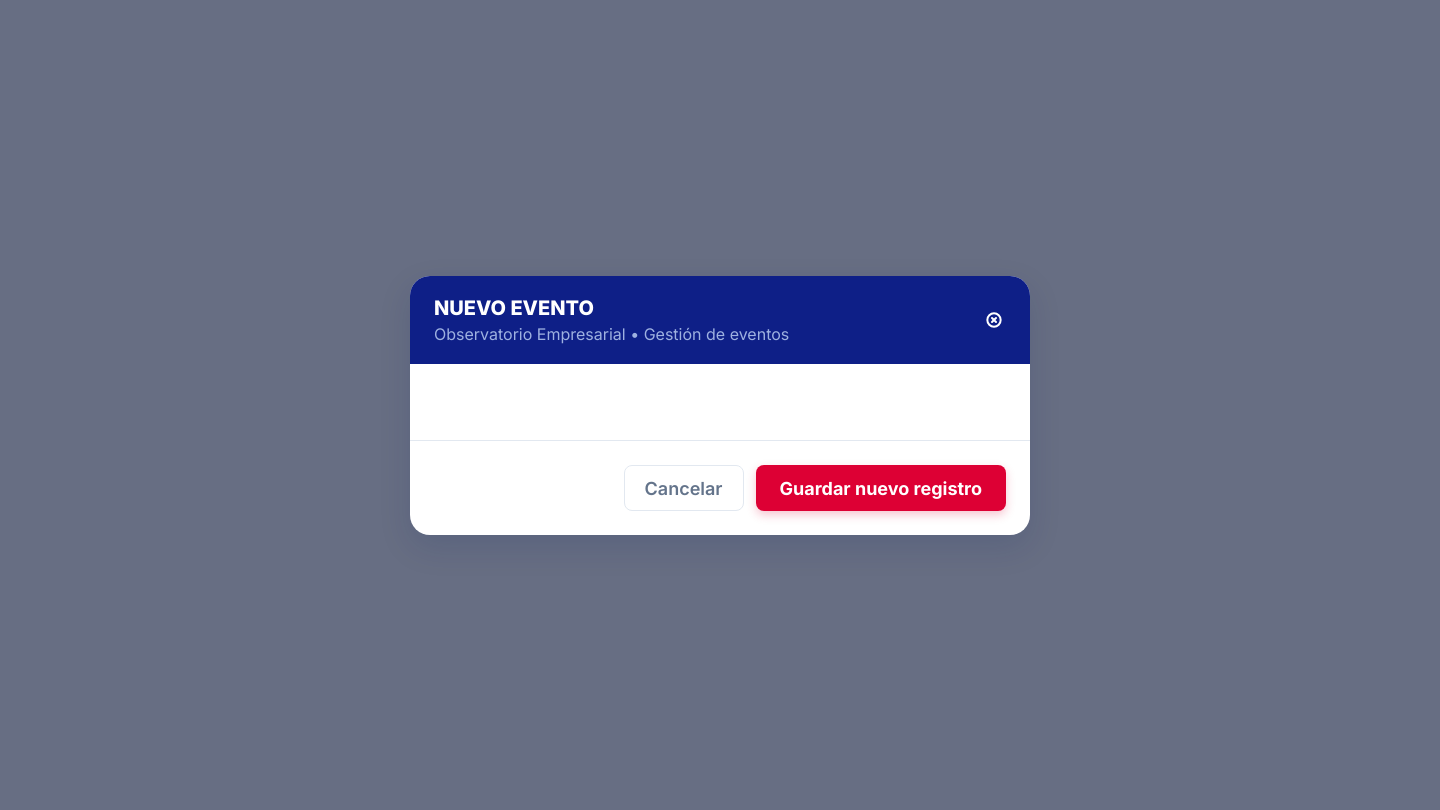
Test: FormularioCrud › muestra el error del backend sin cerrar el formulario
The image size is (1440, 810).
Click the button "Guardar nuevo registro" at (881, 488), box [756,464,1006,510]
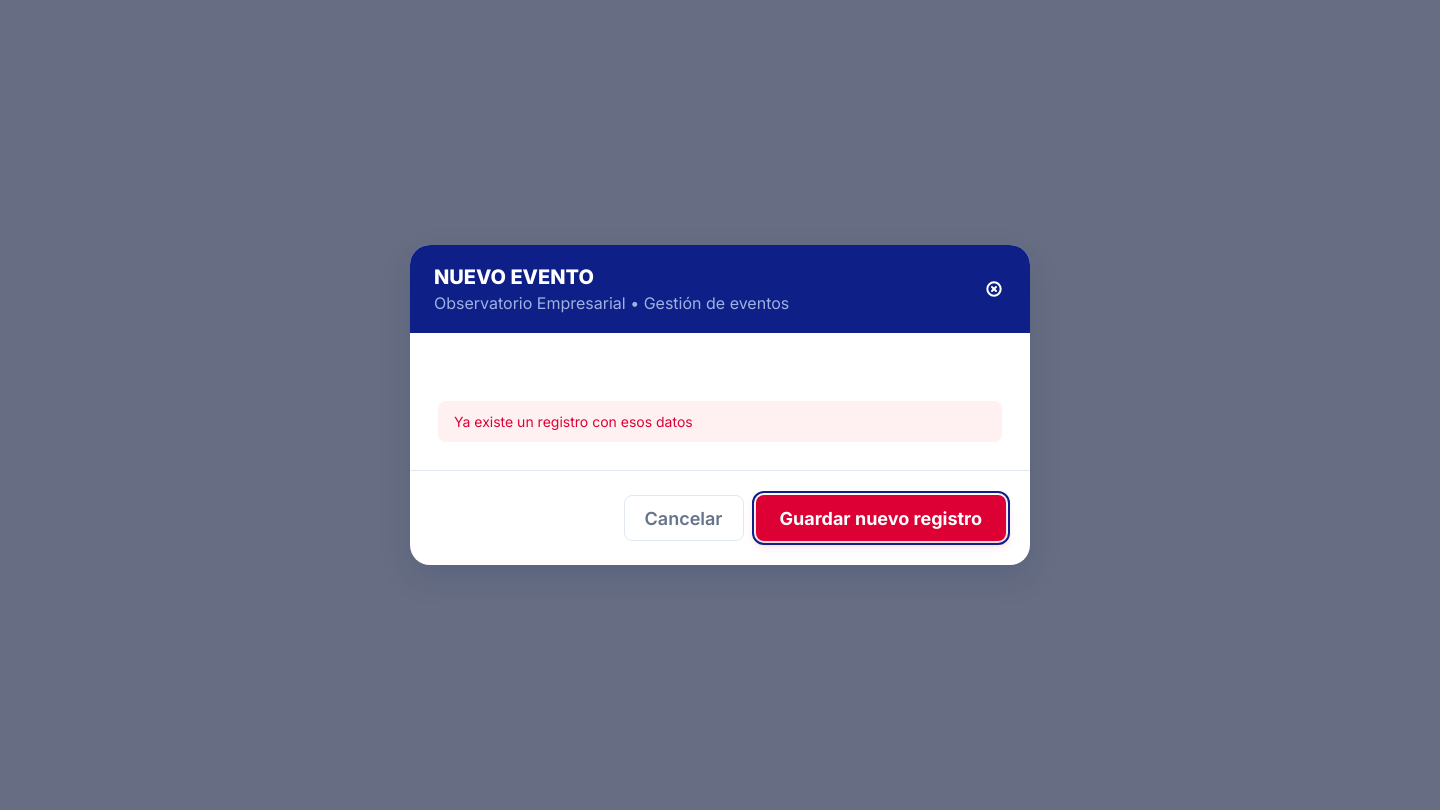
Expected: the message reads "Ya existe un registro con esos datos", [454,413,693,430]
